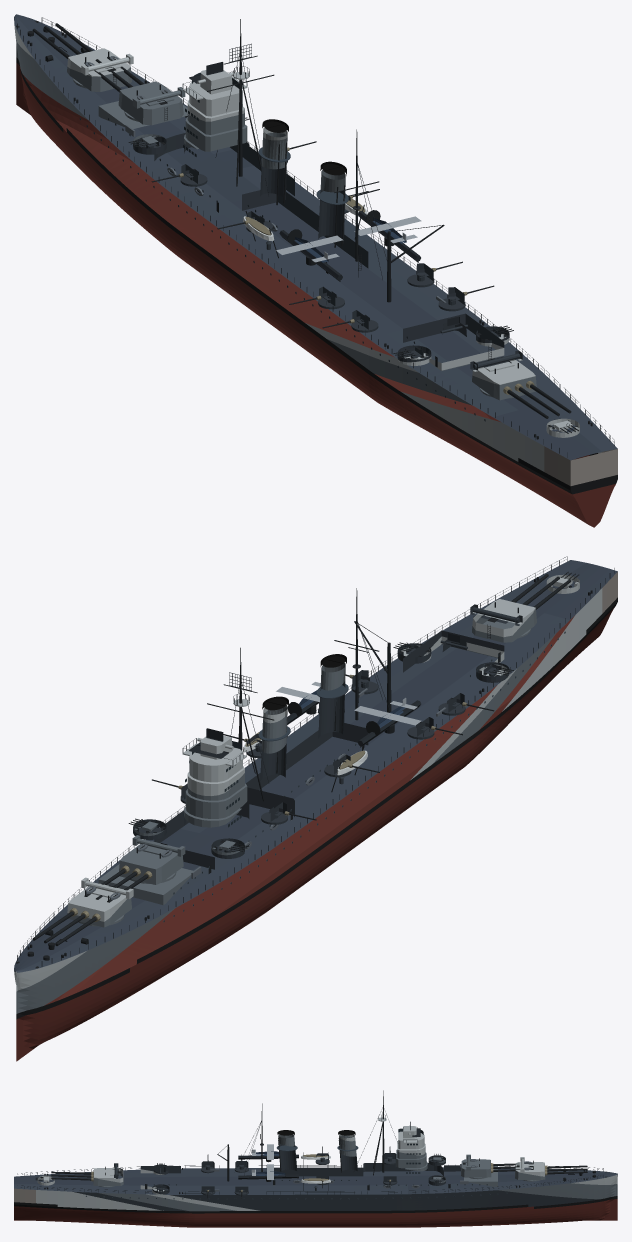
Rendered from new_orleans_m22.glb.
The picture shows the model from 3 angles, top to bottom: view 1: azimuth 30°, elevation 25°; view 2: azimuth 150°, elevation 25°; view 3: azimuth 270°, elevation 25°; orthographic projection. The views are drawn at different scales.
Visible parts, largest first — view 1: Hull, Turret3, Turret2, Turret1, Float2, Float1, Director; view 2: Hull, Turret3, Turret1, Turret2, Float2, Director; view 3: Hull, Turret1, Turret3, Turret2, Float1, Float2.
Boxes of the visible parts, x1=… form: Hull: x1=14, y1=14, x2=617, y2=527; Turret3: x1=470, y1=350, x2=571, y2=418; Turret2: x1=84, y1=56, x2=185, y2=125; Turret1: x1=32, y1=23, x2=133, y2=91; Float2: x1=276, y1=229, x2=343, y2=262; Float1: x1=354, y1=210, x2=421, y2=243; Director: x1=197, y1=62, x2=233, y2=94; Hull: x1=14, y1=556, x2=617, y2=1061; Turret3: x1=470, y1=574, x2=571, y2=642; Turret1: x1=32, y1=877, x2=133, y2=945; Turret2: x1=84, y1=835, x2=185, y2=902; Float2: x1=354, y1=698, x2=421, y2=736; Director: x1=197, y1=728, x2=233, y2=759; Hull: x1=14, y1=1090, x2=617, y2=1227; Turret1: x1=515, y1=1157, x2=587, y2=1181; Turret3: x1=51, y1=1163, x2=123, y2=1187; Turret2: x1=461, y1=1154, x2=533, y2=1179; Float1: x1=251, y1=1164, x2=285, y2=1179; Float2: x1=251, y1=1144, x2=279, y2=1159.
Bounding box in the file's own units: 31 × 42.74 × 179.
